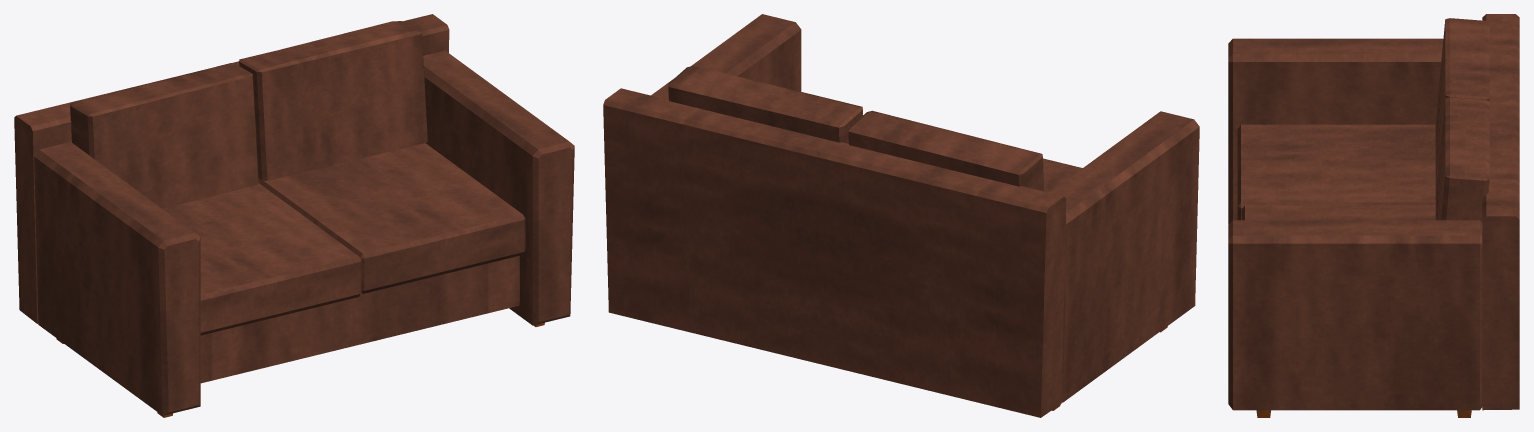
The model's file is couch_red.obj.
3 renders of one model, left to right at view 1: azimuth 30°, elevation 25°; view 2: azimuth 150°, elevation 25°; view 3: azimuth 270°, elevation 25°, orthographic. The views are drawn at different scales.
Visible parts, largest first — view 1: couch_red; view 2: couch_red; view 3: couch_red.
Boxes of the visible parts, x1,y1,x2,y2 form: couch_red: [14, 14, 574, 417]; couch_red: [603, 14, 1199, 417]; couch_red: [1228, 14, 1519, 417].
Size of the model in its own units: 2.24 by 1.19 by 1.36.
